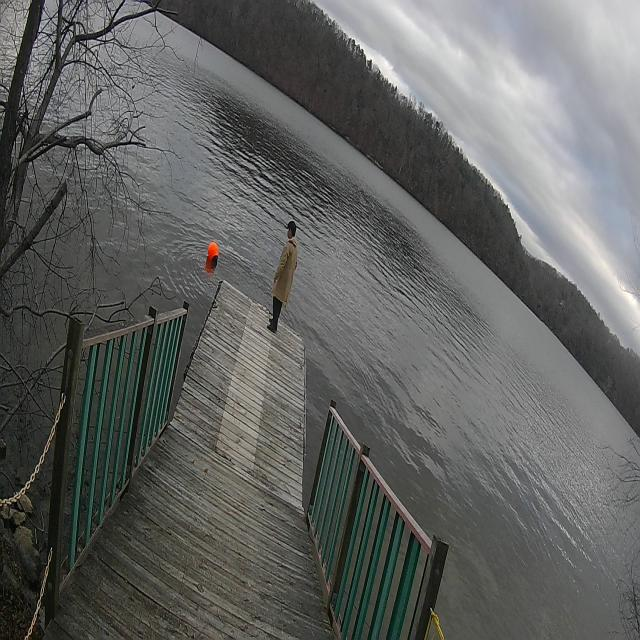Buoy: (206, 238, 222, 268)
